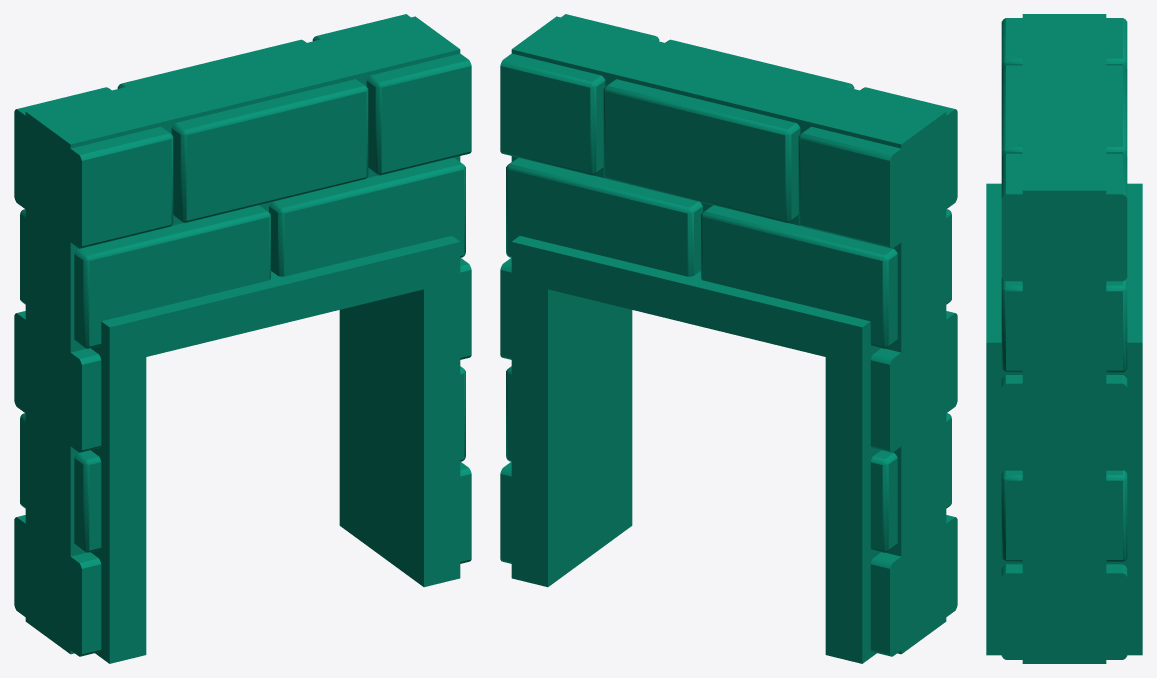
The model's file is doorway_small.fbx.
The picture shows the model from 3 angles, left to right: view 1: azimuth 30°, elevation 25°; view 2: azimuth 150°, elevation 25°; view 3: azimuth 270°, elevation 25°; orthographic projection. The views are drawn at different scales.
Visible parts, largest first — view 1: doorway_small; view 2: doorway_small; view 3: doorway_small.
Part boxes in pixels (x1,y1,x2,y2): doorway_small: (14, 14, 471, 663); doorway_small: (500, 14, 957, 663); doorway_small: (986, 14, 1142, 663).
Bounding box in the file's own units: 2 × 2.5 × 0.7471.
